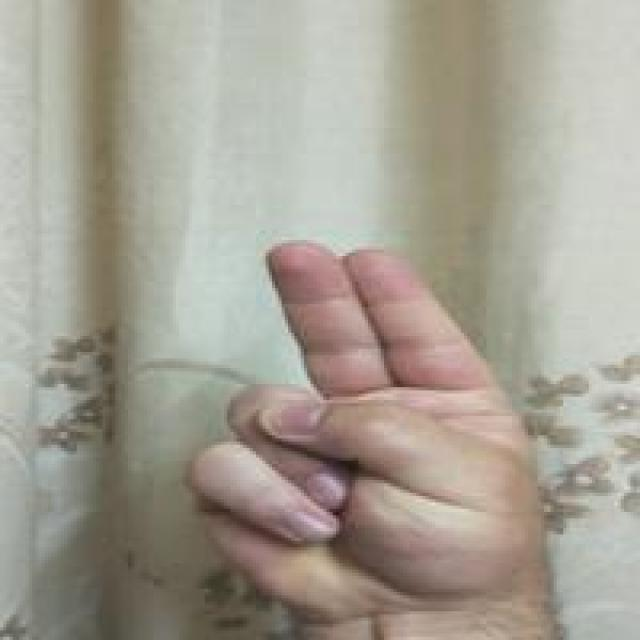U: (187, 232, 571, 622)
